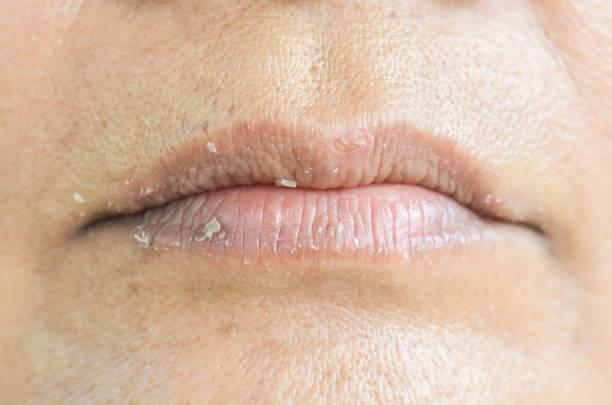Dry-Skin: (158, 113, 491, 291), (439, 298, 612, 405), (252, 292, 410, 388), (79, 299, 203, 378), (69, 19, 210, 87), (384, 36, 468, 86)
